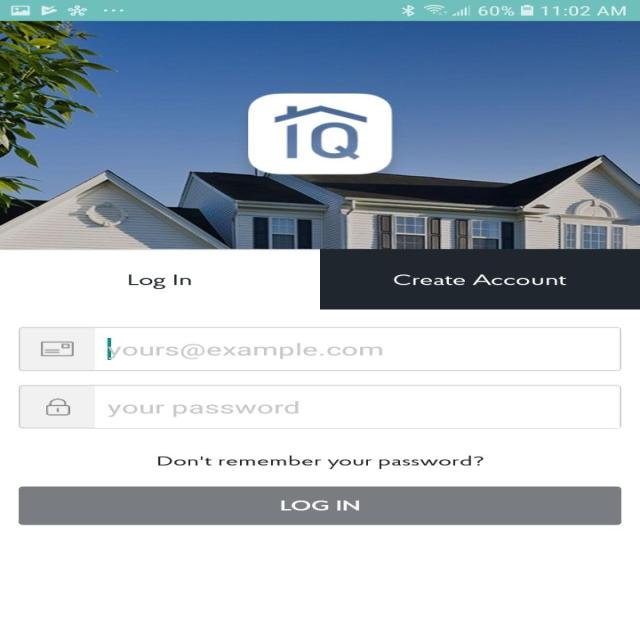EditText: (18, 385, 620, 429), (18, 327, 620, 371)
Icon: (41, 340, 74, 357), (46, 398, 70, 416)
Image: (0, 21, 639, 249), (247, 94, 391, 174)
Text: (108, 342, 382, 359), (158, 455, 484, 469), (108, 401, 298, 417), (129, 274, 191, 289)
TextButton: (19, 486, 622, 525), (319, 249, 639, 309)
